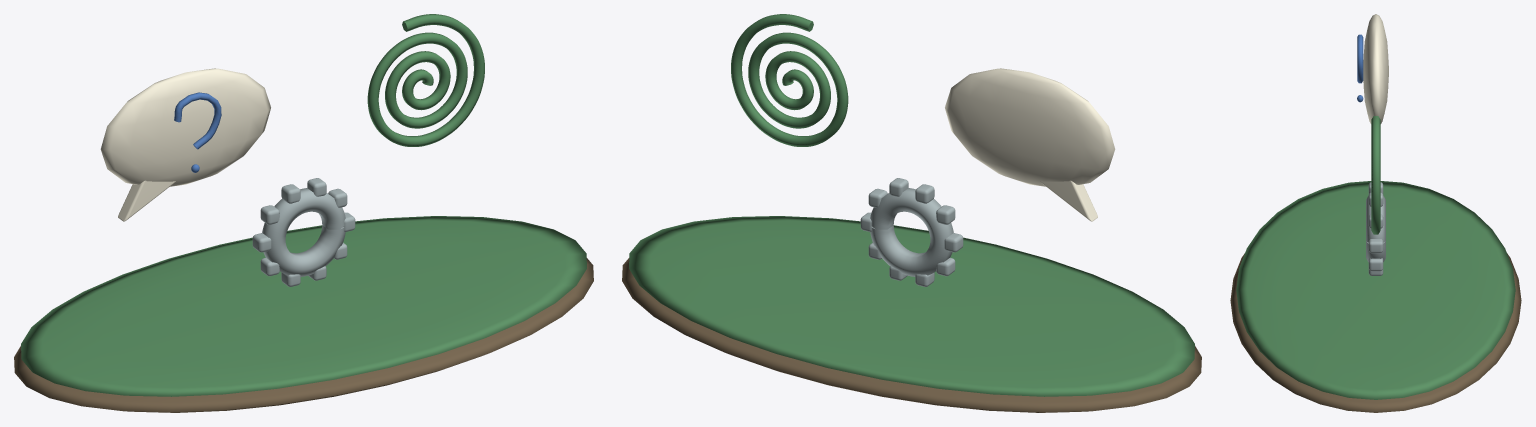
File: complete-first-how-it-works.glb
3 views of the same model, side by side, from view 1: azimuth 30°, elevation 25°; view 2: azimuth 150°, elevation 25°; view 3: azimuth 270°, elevation 25° (orthographic). The views are drawn at different scales.
Visible parts, largest first — view 1: complete-first-how-it-works_surface_01, complete-first-how-it-works_surface_02, complete-first-how-it-works_surface_00, complete-first-how-it-works_surface_04, complete-first-how-it-works_surface_03; view 2: complete-first-how-it-works_surface_01, complete-first-how-it-works_surface_02, complete-first-how-it-works_surface_00, complete-first-how-it-works_surface_04; view 3: complete-first-how-it-works_surface_01, complete-first-how-it-works_surface_00, complete-first-how-it-works_surface_02, complete-first-how-it-works_surface_04, complete-first-how-it-works_surface_03.
Boxes of the visible parts, x1,y1,x2,y2 form: complete-first-how-it-works_surface_01: (21, 14, 586, 396); complete-first-how-it-works_surface_02: (100, 68, 270, 221); complete-first-how-it-works_surface_00: (14, 258, 593, 412); complete-first-how-it-works_surface_04: (252, 178, 355, 286); complete-first-how-it-works_surface_03: (174, 92, 221, 172); complete-first-how-it-works_surface_01: (629, 14, 1194, 396); complete-first-how-it-works_surface_02: (945, 68, 1115, 221); complete-first-how-it-works_surface_00: (622, 258, 1201, 412); complete-first-how-it-works_surface_04: (860, 178, 963, 286); complete-first-how-it-works_surface_01: (1236, 116, 1515, 399); complete-first-how-it-works_surface_00: (1230, 253, 1521, 412); complete-first-how-it-works_surface_02: (1363, 14, 1388, 123); complete-first-how-it-works_surface_04: (1366, 182, 1385, 275); complete-first-how-it-works_surface_03: (1357, 34, 1363, 102).
Size of the model in its own units: 4.56 by 2.29 by 2.5.
